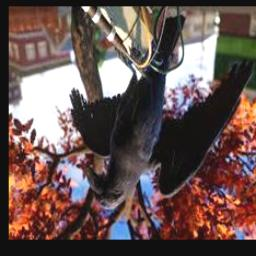Crow: (69, 15, 254, 209)
